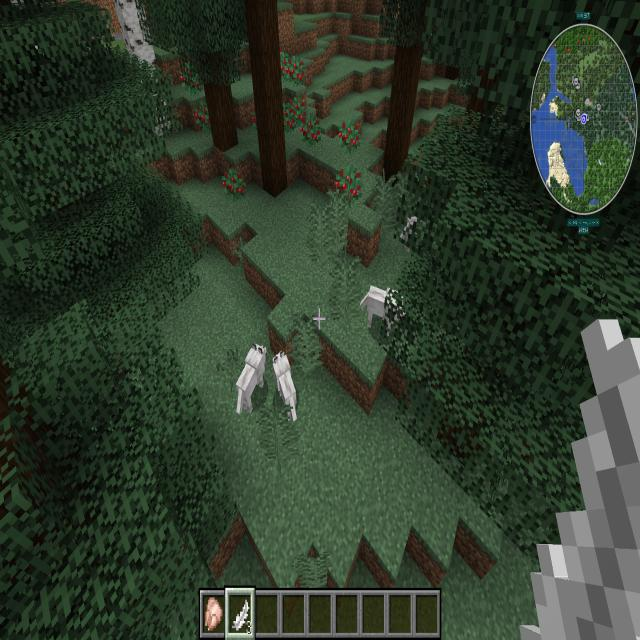Wolf: (226, 322, 271, 438), (355, 270, 416, 354), (268, 336, 312, 434), (399, 202, 439, 264)
